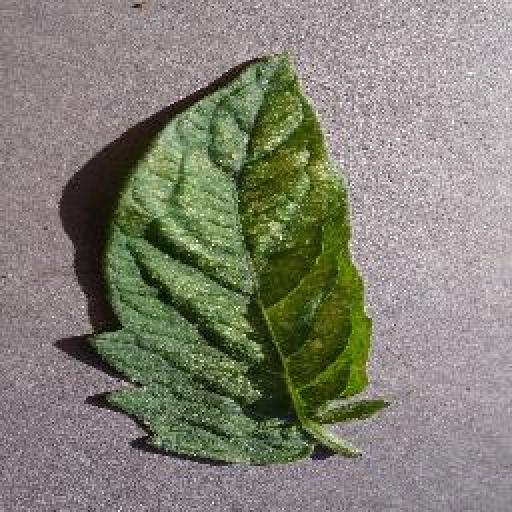disease_tomato: (90, 50, 370, 468)
